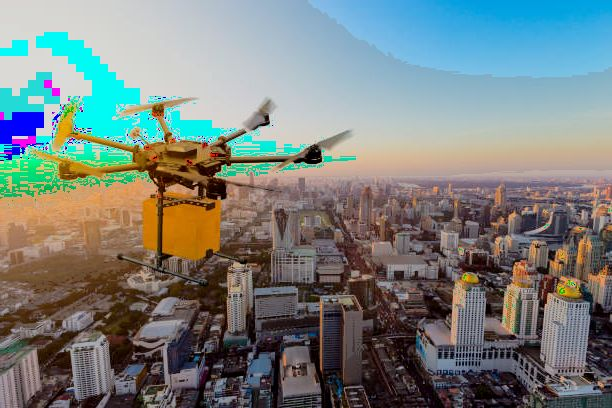Drone: (19, 94, 368, 208)
